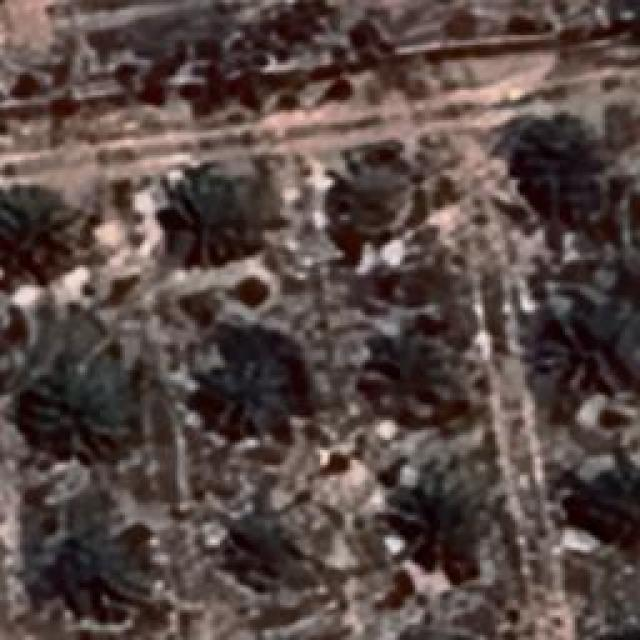PalmTree: (37, 522, 145, 626), (25, 362, 125, 460), (516, 109, 602, 214), (407, 465, 495, 565), (555, 294, 640, 396), (0, 180, 85, 280), (176, 168, 272, 254), (372, 328, 456, 424), (205, 350, 290, 430), (335, 154, 403, 224), (221, 508, 279, 588), (570, 474, 640, 538)
